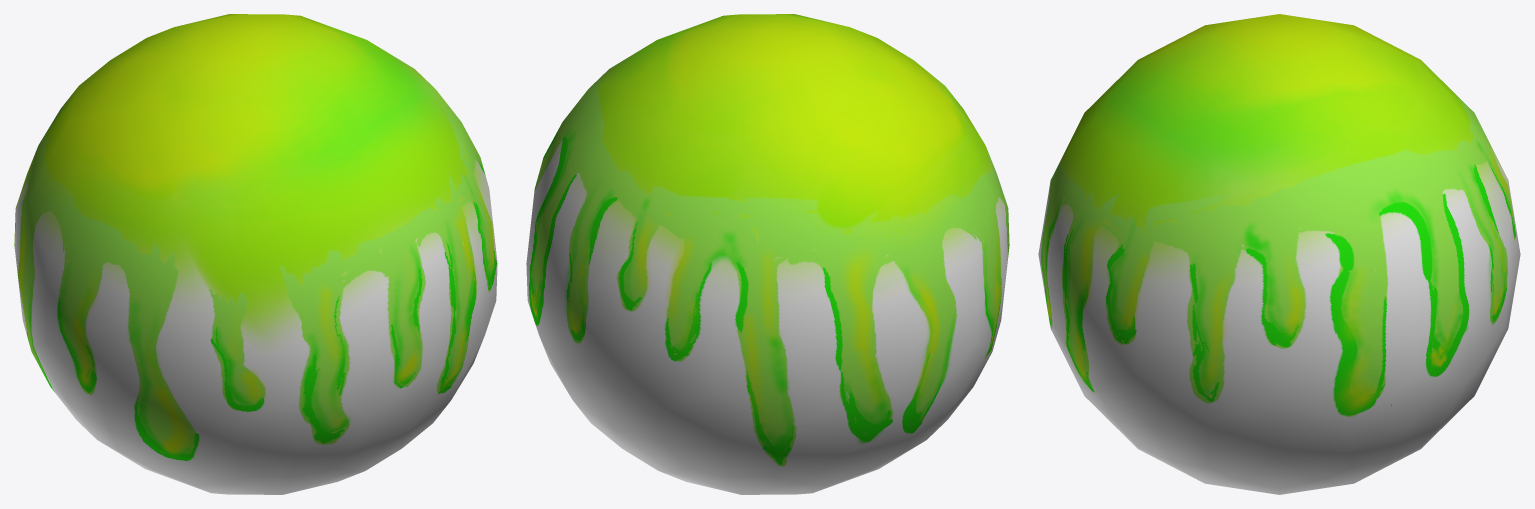
3 views of the same model, side by side, from view 1: azimuth 30°, elevation 25°; view 2: azimuth 150°, elevation 25°; view 3: azimuth 270°, elevation 25° (orthographic).
Visible parts, largest first — view 1: Simple; view 2: Simple; view 3: Simple.
Part boxes in pixels (x1,y1,x2,y2): Simple: (14,14,497,494); Simple: (526,14,1009,494); Simple: (1038,14,1520,494).
Size of the model in its own units: 1.85 by 1.86 by 1.85.
Materials: 1 (1 with a texture image).
